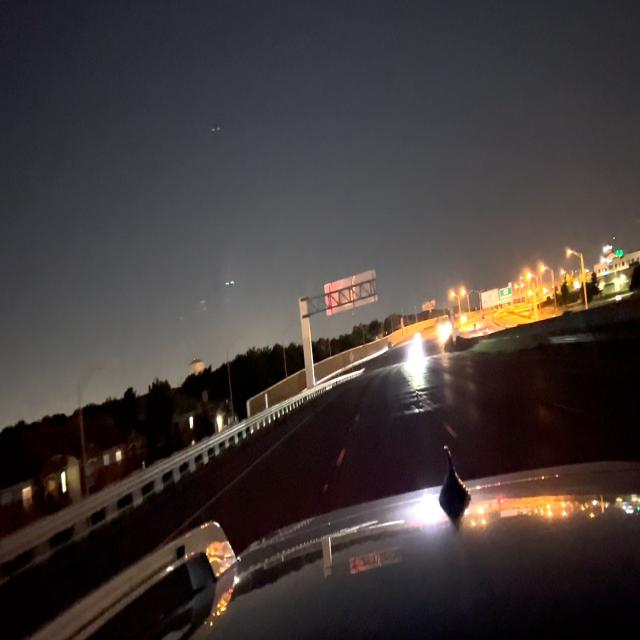back-of-sign: (323, 267, 380, 320)
